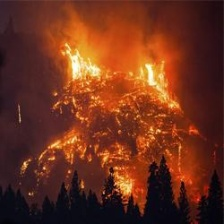fire: (65, 55, 190, 198)
